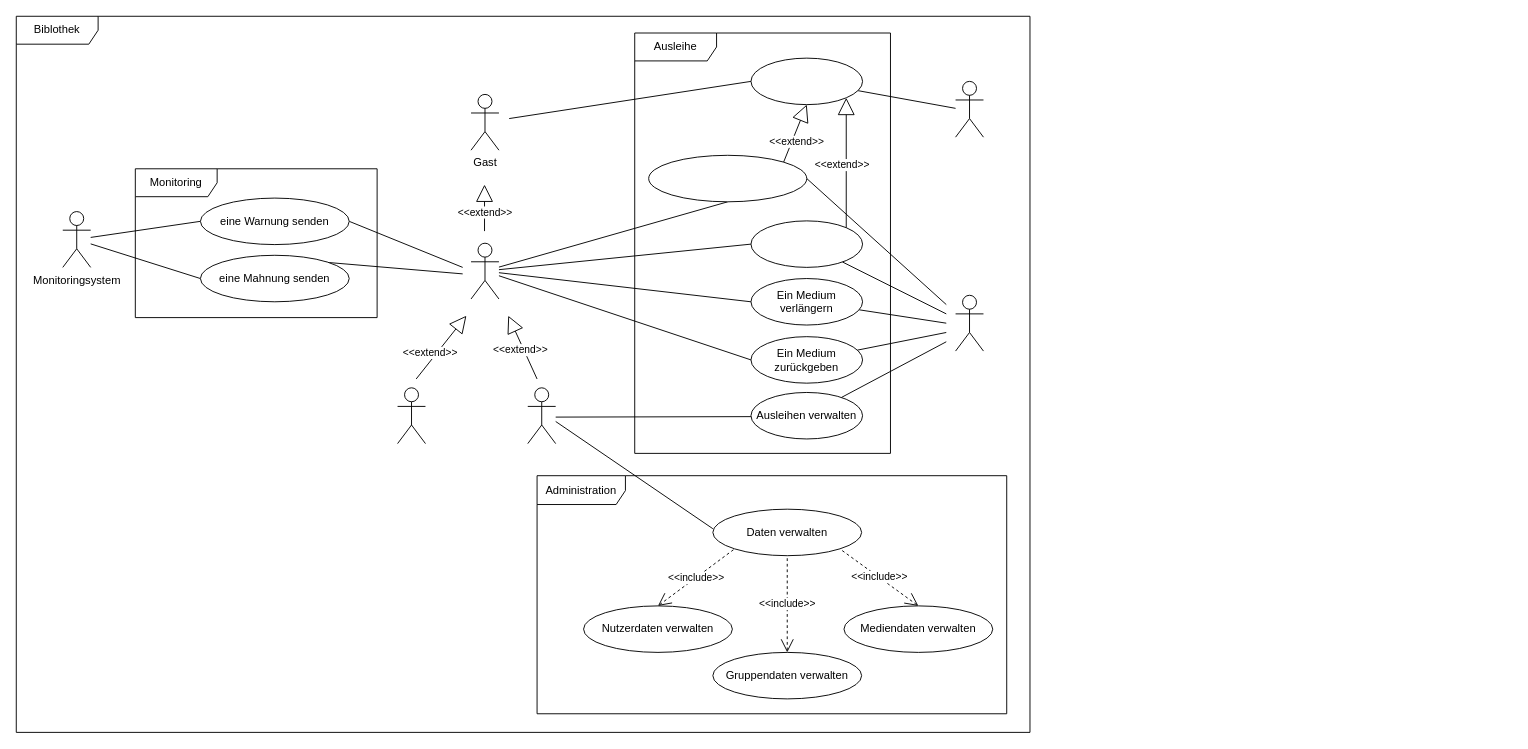
Some shapes in this 1528 by 749 pixel diagram are drawn without their labels. The shapes that lost their labels are listed below. From the top down, each one's centre as x and y in pixels, then its label:
At (806,81): "Ein Medium suchen".
At (969,108): "Katalog".
At (727,178): "Ein Medium ausleihen/herunterladen".
At (806,243): "Ein Medium vorbestellen".
At (484,270): "Nutzer".
At (969,322): "Ausleihsystem".
At (411,415): "Student".
At (541,415): "Mitarbeiter".
